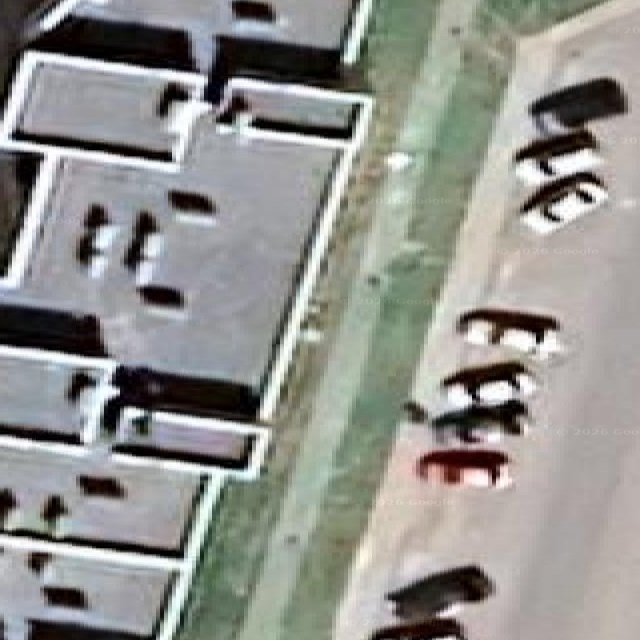car: (18, 0, 195, 70), (386, 564, 493, 620), (457, 308, 564, 359), (529, 76, 627, 131), (404, 400, 529, 443), (0, 305, 105, 356), (520, 172, 607, 233), (108, 364, 211, 415), (513, 129, 600, 184), (440, 360, 536, 407), (431, 400, 529, 443), (416, 449, 512, 487), (75, 204, 119, 278), (100, 380, 150, 440), (110, 366, 178, 409), (124, 211, 163, 285), (39, 313, 103, 355), (75, 224, 116, 278), (20, 0, 71, 43), (369, 617, 466, 639), (64, 372, 99, 431), (123, 213, 158, 268), (20, 0, 59, 40), (136, 284, 183, 316), (168, 188, 216, 218), (37, 493, 68, 537), (99, 387, 124, 439), (75, 473, 125, 499), (116, 406, 150, 442), (216, 89, 252, 123), (156, 80, 187, 116), (64, 371, 96, 403), (232, 0, 276, 23), (75, 232, 99, 272), (43, 586, 85, 607), (92, 223, 119, 252), (215, 395, 252, 415), (0, 487, 18, 528), (83, 203, 108, 230), (141, 230, 163, 258), (403, 399, 427, 423), (88, 251, 107, 278), (128, 413, 143, 424), (84, 0, 108, 5), (67, 393, 75, 402), (103, 388, 108, 400), (161, 154, 167, 158), (71, 369, 75, 375), (236, 390, 243, 392), (96, 8, 99, 9), (3, 3, 5, 4), (67, 390, 68, 392), (12, 3, 13, 4)
